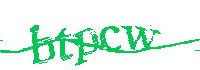b: (30, 22, 55, 65)
c: (100, 24, 123, 55)
p: (73, 25, 98, 66)
t: (55, 26, 73, 62)
w: (123, 20, 157, 52)
